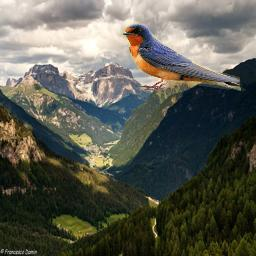Swallow: (119, 21, 241, 95)
